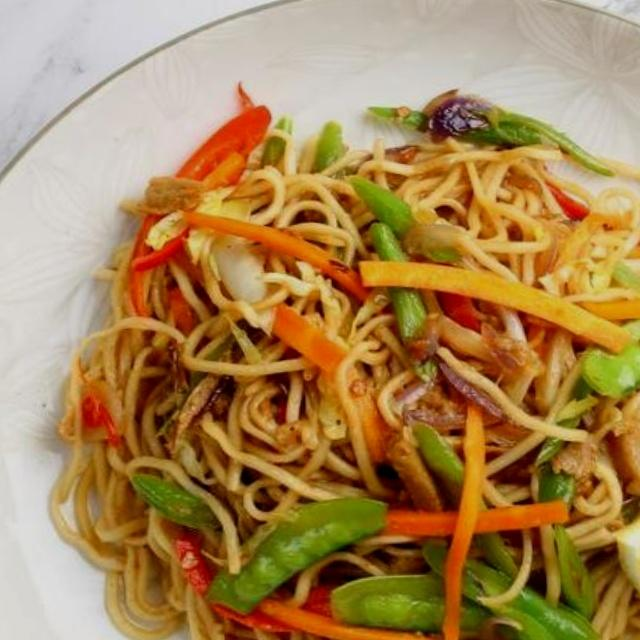pancit bihon: (64, 139, 639, 639)
